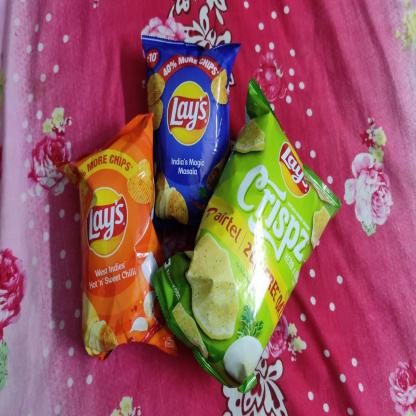hot_and_sweet: (70, 110, 175, 348)
indian_magic_masala: (142, 34, 231, 229)
